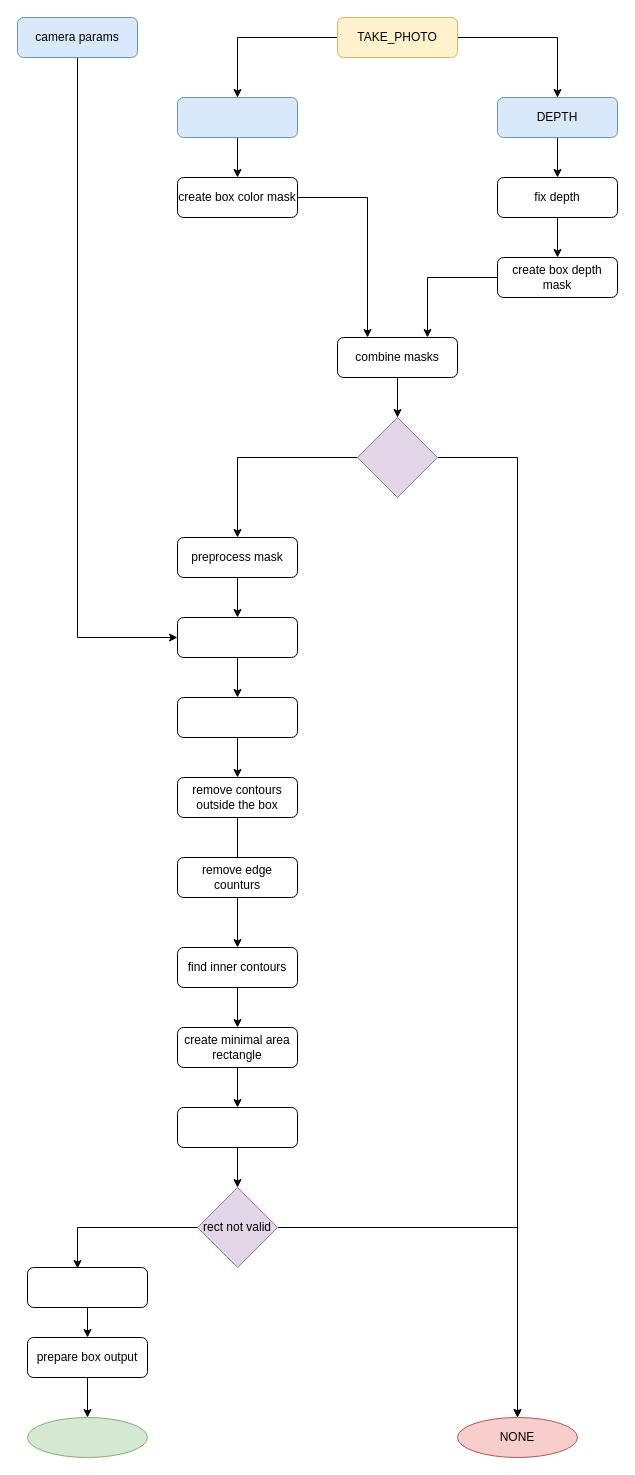
The diagram is 635 pixels wide and 1475 high, and some of its shapes have lost their labels. Each missing label, with the box of its shape:
BGR: (176, 96, 298, 138)
BOX OUTPUT: (26, 1416, 148, 1458)
find contours: (176, 696, 298, 738)
mask not NONE: (356, 416, 438, 498)
prepare image output: (26, 1266, 148, 1308)
undistort: (176, 616, 298, 658)
validate rectangle: (176, 1106, 298, 1148)
